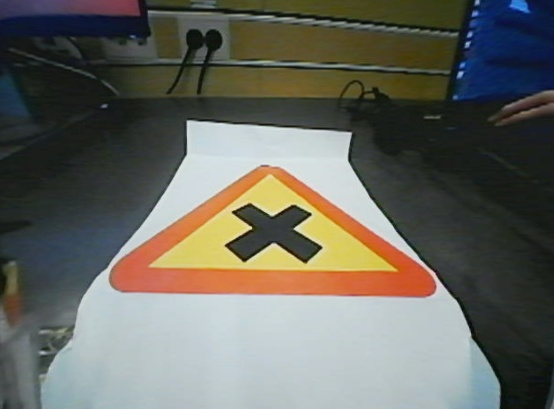junction: (100, 151, 441, 308)
